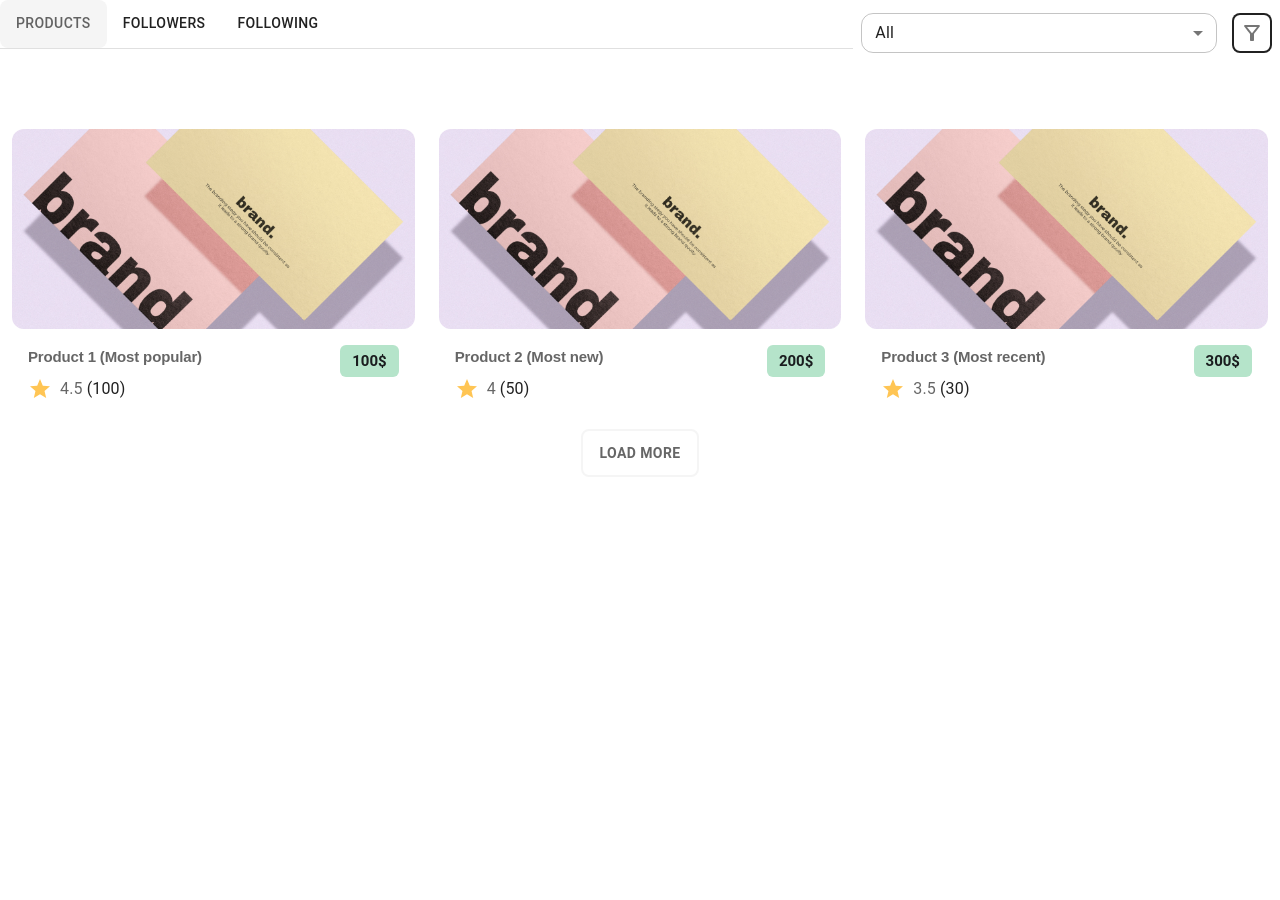
Test: ShopContent Test › show modal filter products when select filter products icon button
Click the button with test id "ProductFilter_IconButton" at {"x": 1252, "y": 32}, box [1232,12,1272,52]
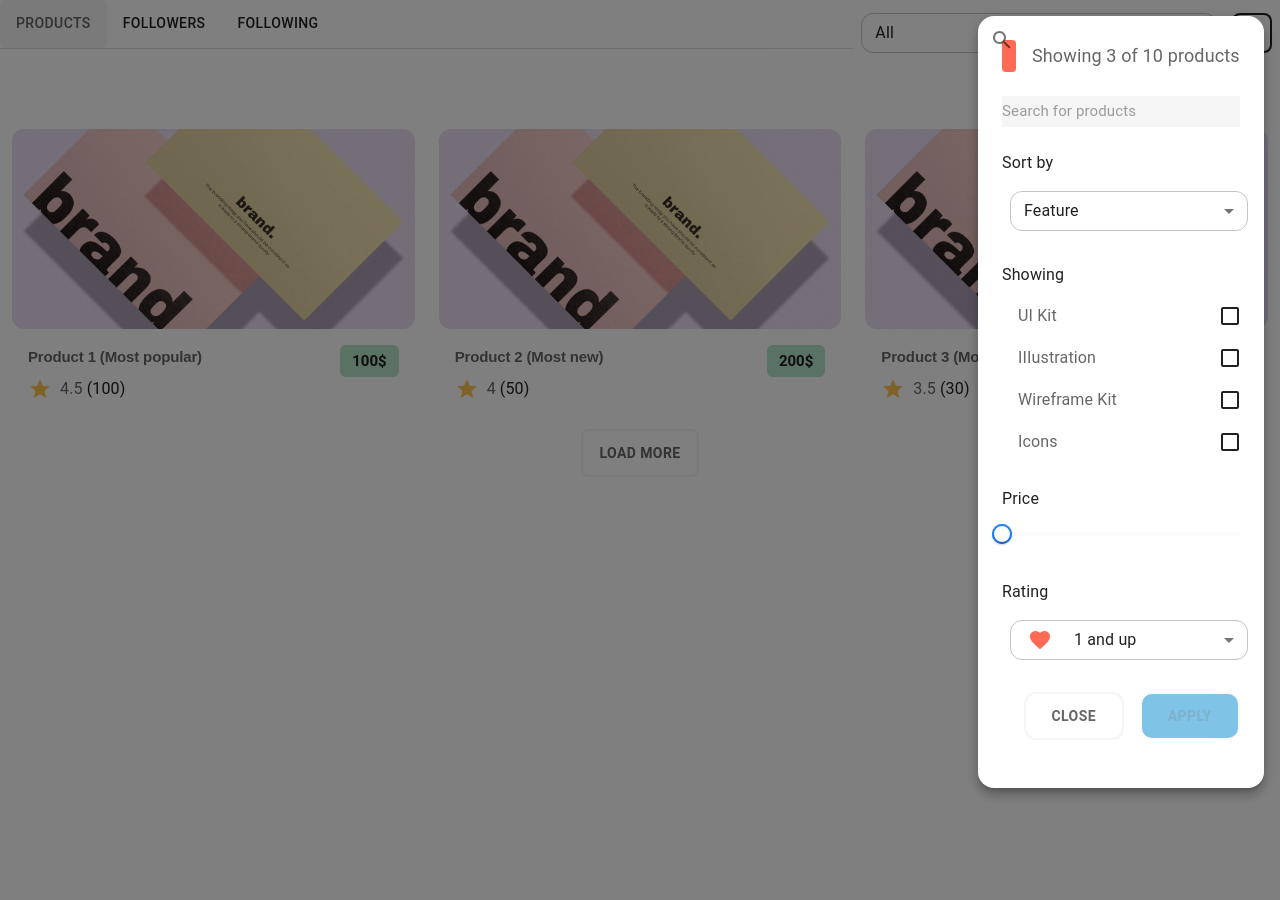
Now the element with test id "ProductFilter_Popover" is shown, box [978,16,1264,788]
